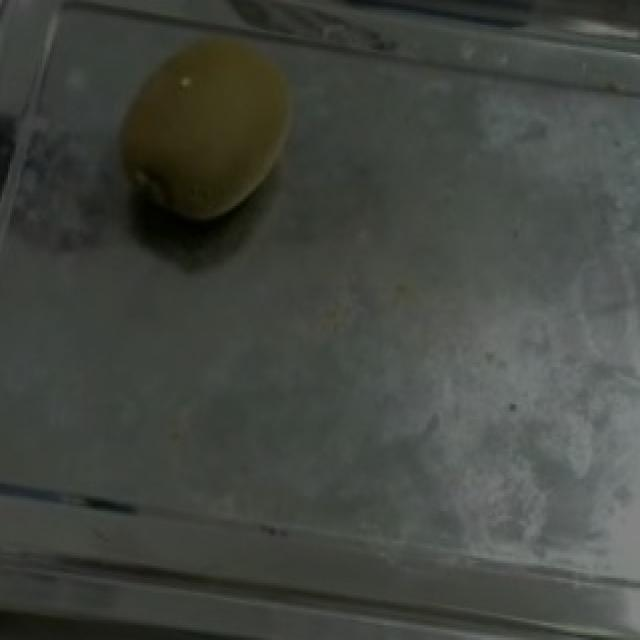Fruit: (92, 2, 322, 246)
